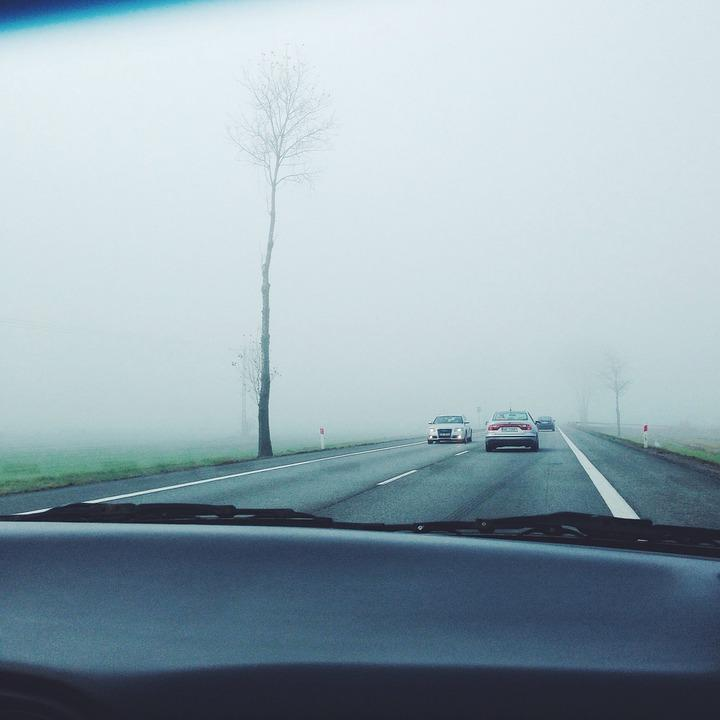car: (483, 406, 541, 452), (426, 414, 473, 445), (534, 415, 557, 431)
